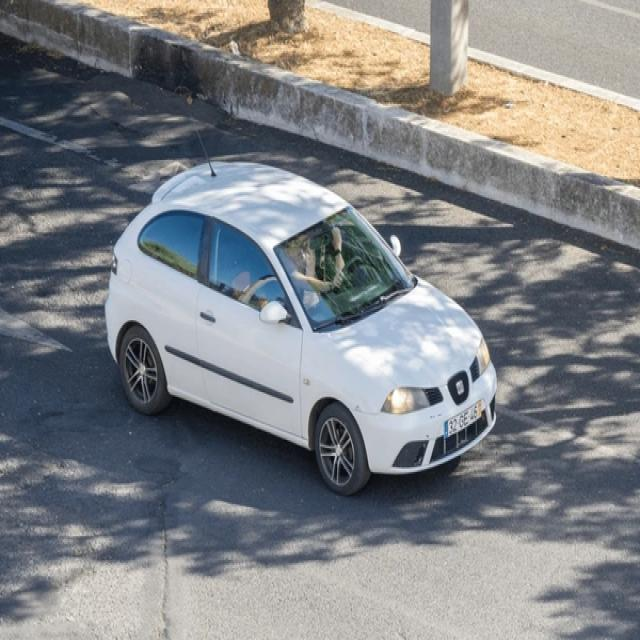seat: (454, 374, 468, 397)
